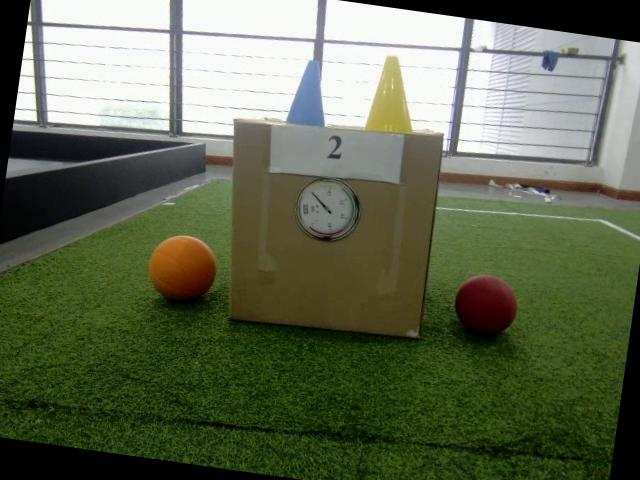2: (326, 134, 344, 162)
Dashboard: (294, 174, 364, 248)
blue_barrel: (288, 57, 336, 128)
orange_ball: (144, 230, 222, 306)
red_ball: (452, 271, 522, 338)
ssi: (302, 204, 311, 216)
yellow_barrel: (360, 51, 428, 136)
